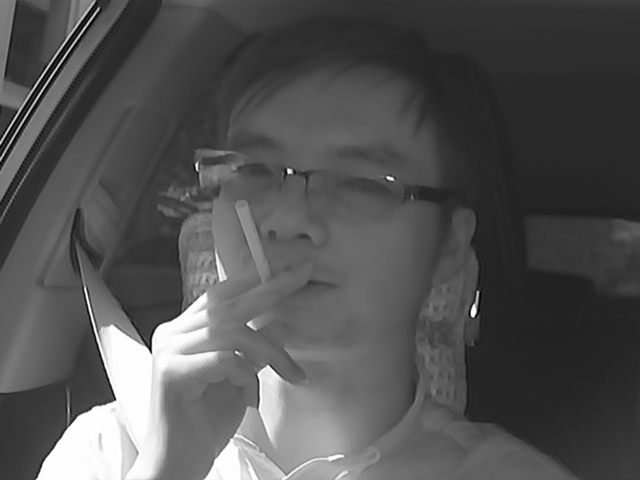hand: (140, 268, 309, 452)
